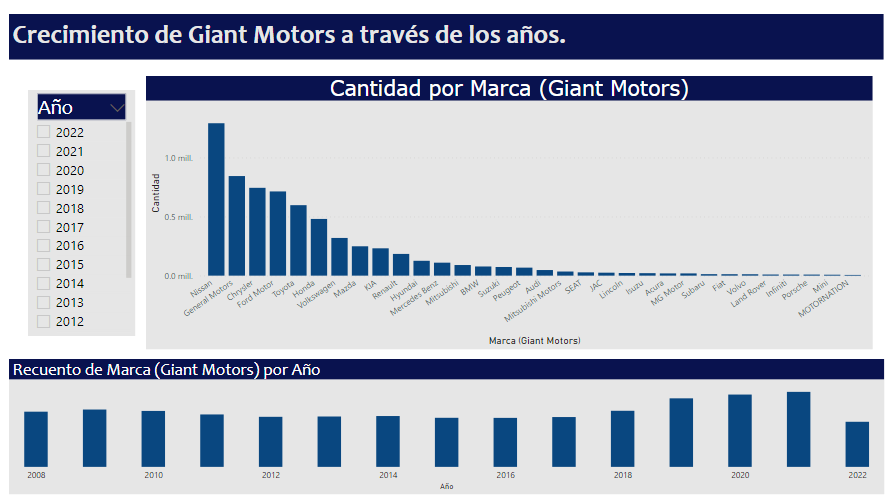

The dashboard page shown, as its layout file describes it:
{"tool":"powerbi","page":{"name":"Crecimiento de marca","canvas":[1280,720],"ordinal":3},"visuals":[{"type":"columnChart","fields":{"Category":["Ventas_VL$.Marca (grupos)"],"Y":["Sum(Ventas_VL$.Cantidad)"]},"box":[211.2,111.3,1037.4,389.6],"z":0},{"type":"slicer","fields":{"Values":["Ventas_VL$.Año"]},"box":[42.8,131.3,152.7,351],"z":1},{"type":"textbox","box":[15.8,22.8,1248.4,65],"z":2},{"type":"ribbonChart","fields":{"Y":["CountNonNull(Ventas_VL$.Marca (Giant Motors))"],"Category":["Ventas_VL$.Año"]},"box":[15.7,515.1,1248.6,192.6],"z":3}]}

Visuals, with their boxes in screenshot pixels (x1, y1, x2, y2), scaled from the page's 1280x720 canvas onto the 889x502 screenshot:
columnChart - Ventas_VL$.Marca (grupos) x Sum(Ventas_VL$.Cantidad): bbox=(147, 78, 867, 349)
slicer - Ventas_VL$.Año: bbox=(30, 92, 136, 336)
textbox: bbox=(11, 16, 878, 61)
ribbonChart - CountNonNull(Ventas_VL$.Marca (Giant Motors)) x Ventas_VL$.Año: bbox=(11, 359, 878, 493)
